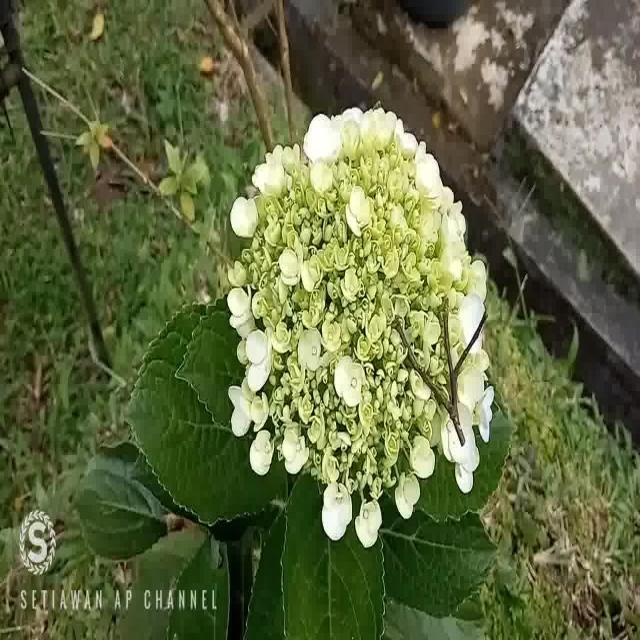Flower: (221, 94, 501, 559)
